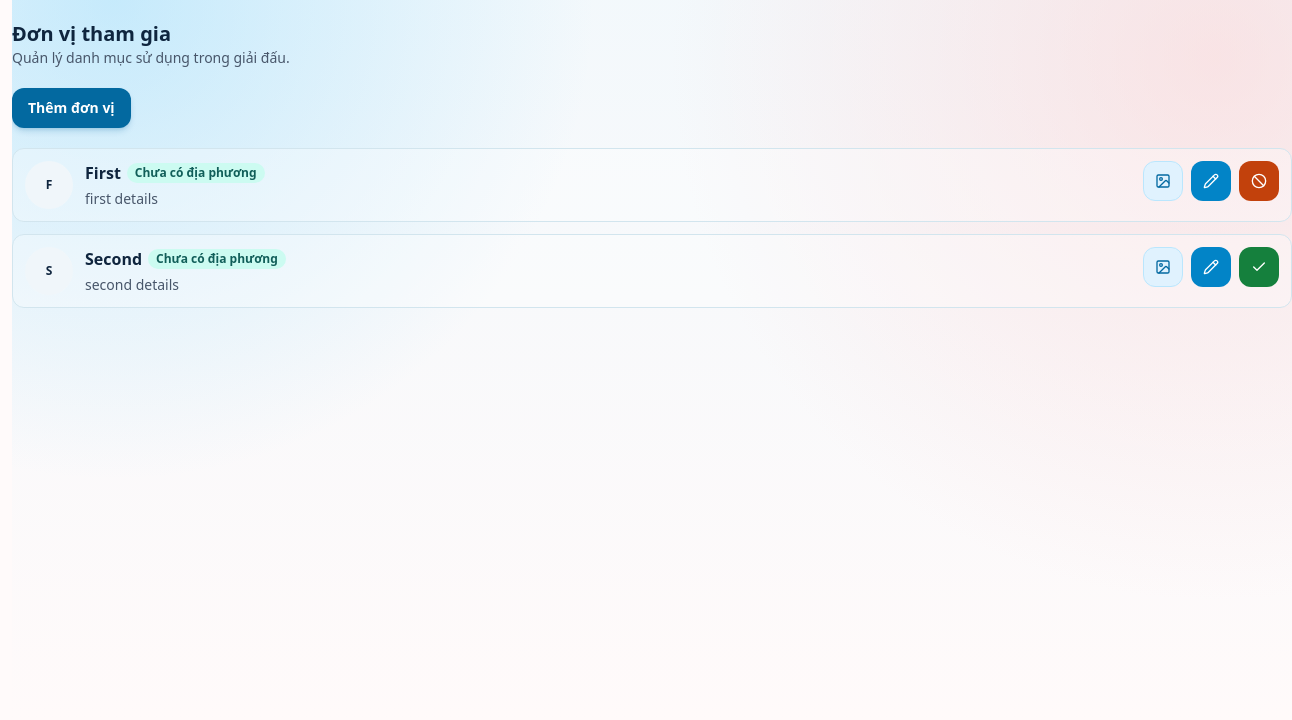
Test: RosterItemsPage › starts a create form empty, trims input, and clears it after success
The width and height of the screenshot is (1292, 720).
Click the button "Thêm đơn vị".
click(71, 108)  # box left=12, top=88, right=131, bottom=128
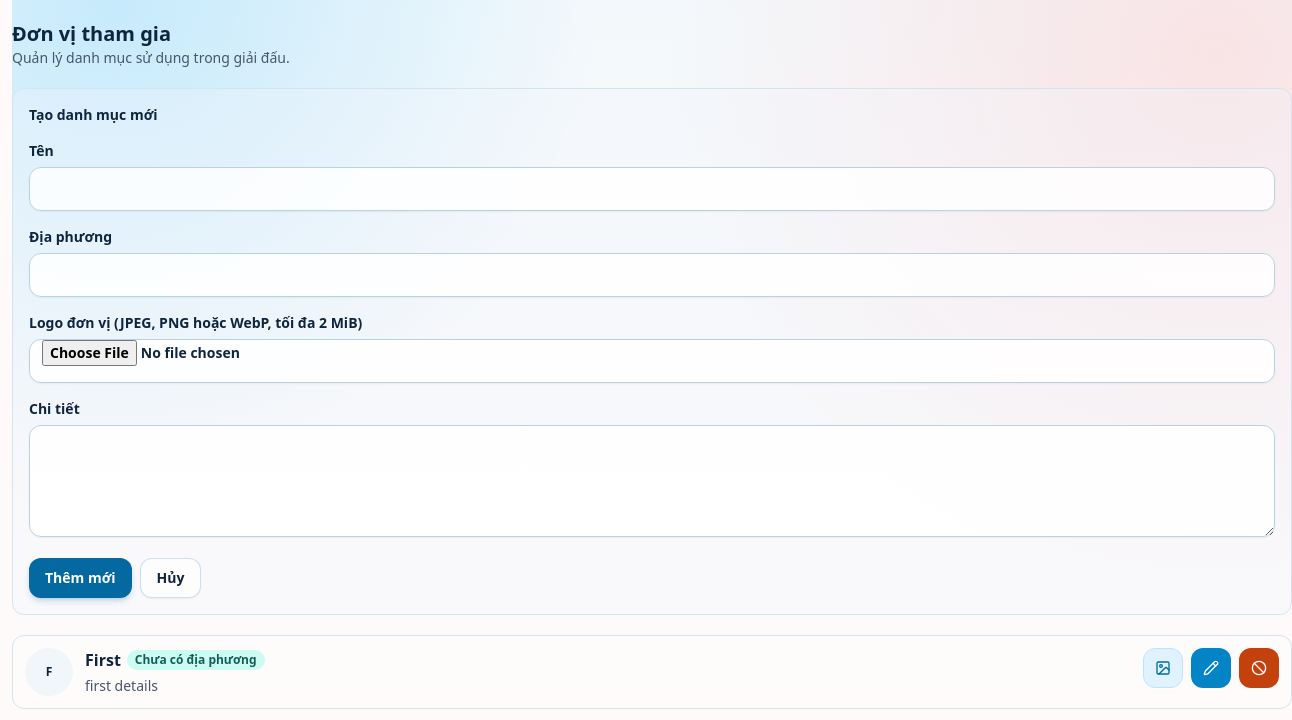
Result: the field labelled "Tên" is empty
Type "  New organization  " into the field labelled "Tên".
click(652, 189); type("  New organization  ")  # box left=29, top=167, right=1275, bottom=211
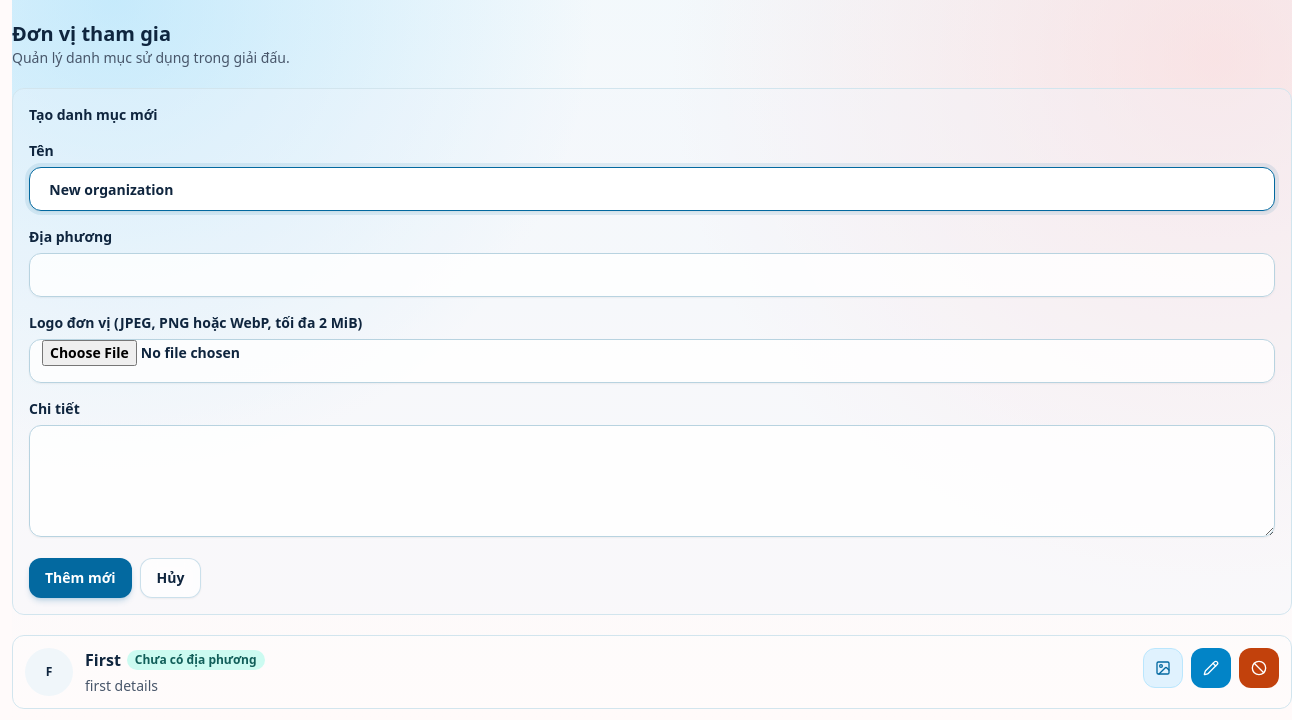
Type "  Details  " into the text box labelled "Chi tiết".
click(652, 481); type("  Details  ")  # box left=29, top=425, right=1275, bottom=537
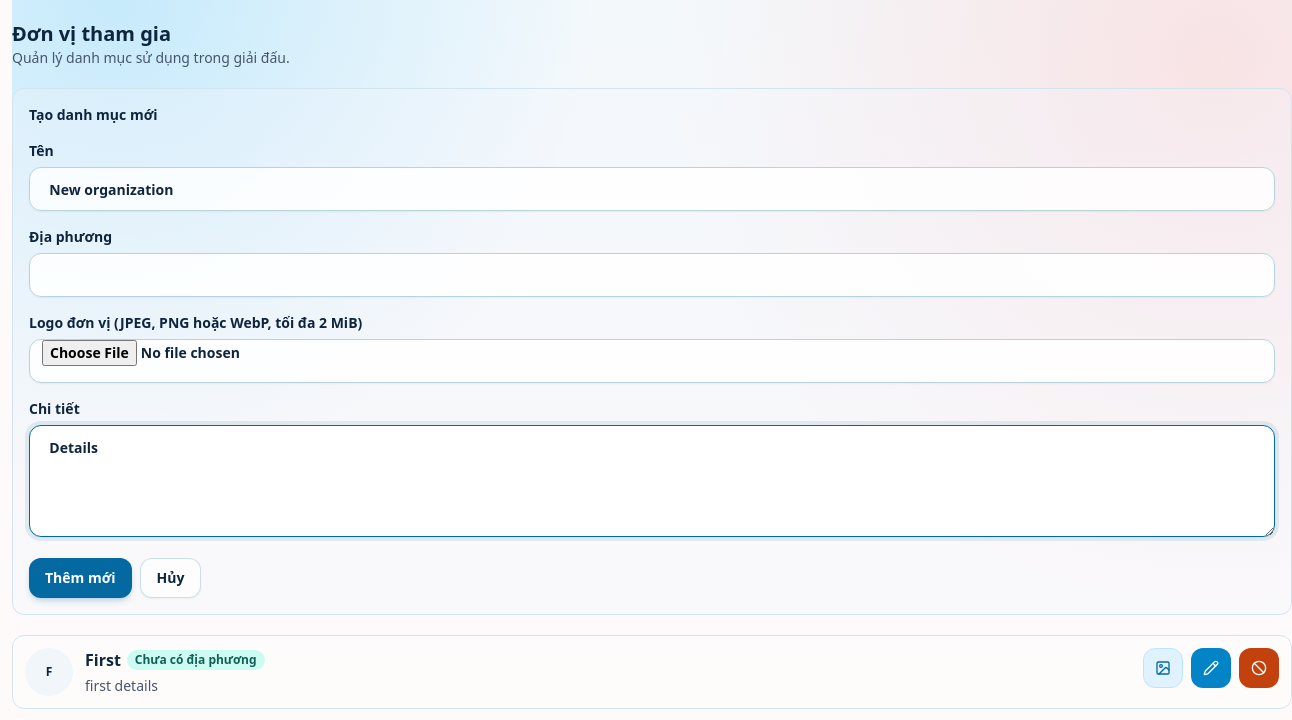
Click the button "Thêm mới".
click(80, 578)  # box left=29, top=558, right=132, bottom=598
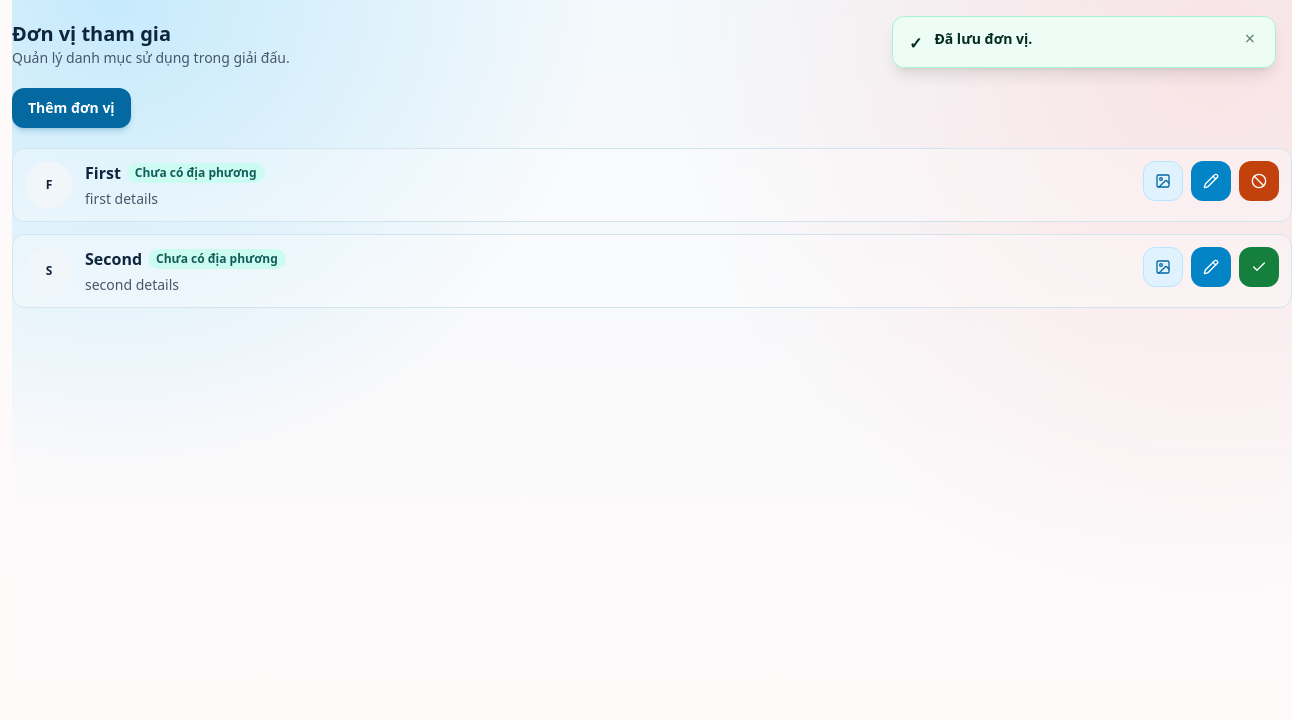
Result: the button "Thêm đơn vị" is shown at left=12, top=88, right=131, bottom=128
